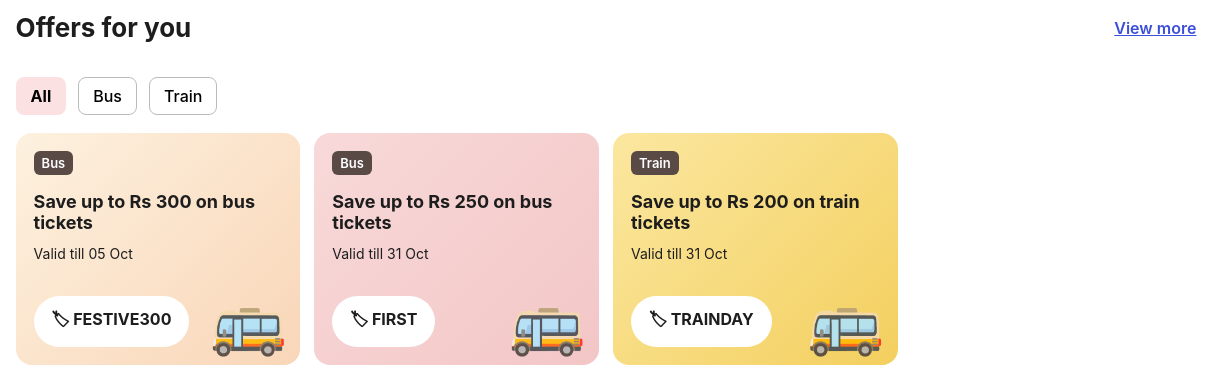
Test: Offers › copies the code and shows "Copied!" when the clipboard write succeeds
The image size is (1214, 382).
Click the button "🏷 FESTIVE300" at coordinates (112, 322), box [34,296,189,347]
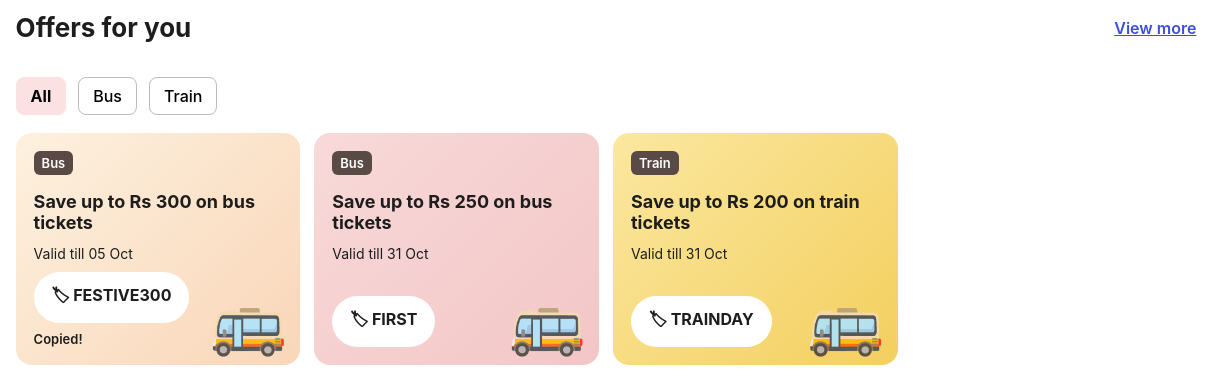
Now the message reads "Copied!", box [34,331,83,347]
